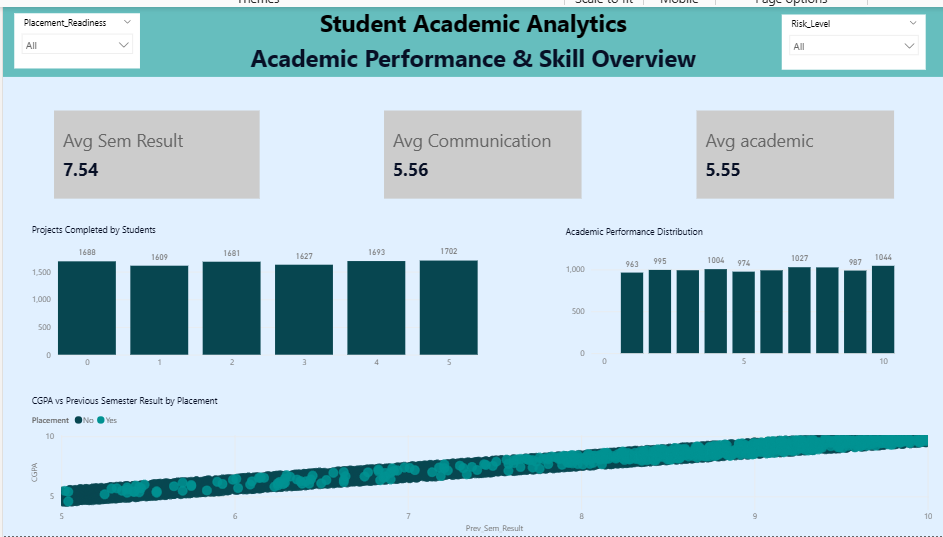

This screenshot's page, from the dashboard's own definition file:
{"tool":"powerbi","page":{"name":"Academic Analytics","canvas":[1280,720],"ordinal":1},"visuals":[{"type":"textbox","title":"Student Academic Analytics","box":[0,0,1280.3,96.1],"z":0},{"type":"cardVisual","fields":{"Data":["Avg(cleaned_student_data.Prev_Sem_Result)"]},"box":[64.5,135.8,290.9,130.4],"z":1000},{"type":"cardVisual","fields":{"Data":["Avg(cleaned_student_data.Academic_Performance)"]},"box":[940,135.8,279.9,130.4],"z":2000},{"type":"cardVisual","fields":{"Data":["Avg(cleaned_student_data.Communication_Skills)"]},"box":[513.2,135.8,279.9,130.4],"z":3000},{"type":"scatterChart","title":"CGPA vs Previous Semester Result by Placement","fields":{"X":["cleaned_student_data.Prev_Sem_Result"],"Y":["cleaned_student_data.CGPA"],"Series":["cleaned_student_data.Placement"]},"box":[34.3,526.9,1236.4,193.5],"z":4000},{"type":"clusteredColumnChart","title":"Academic Performance Distribution","fields":{"Category":["cleaned_student_data.Academic_Performance"],"Y":["CountNonNull(cleaned_student_data.College_ID)"]},"box":[760.2,297.8,459.7,201.7],"z":5000},{"type":"clusteredColumnChart","title":"Projects Completed by Students","fields":{"Y":["CountNonNull(cleaned_student_data.College_ID)"],"Category":["cleaned_student_data.Projects_Completed"]},"box":[34.3,295,617.5,207.2],"z":6000},{"type":"slicer","fields":{"Values":["cleaned_student_data.Risk_Level"]},"box":[1060.7,11,196.2,75.5],"z":7000},{"type":"slicer","fields":{"Values":["cleaned_student_data.Placement_Readiness"]},"box":[15.1,8.2,171.5,75.5],"z":8000}]}

Visuals, with their boxes on the page's 1280x720 design canvas (x1, y1, x2, y2). These are canvas units, not pixel positions in the 943x537 screenshot, which may show the page scaled, cropped or inside an application window:
"Student Academic Analytics" textbox: x1=0, y1=0, x2=1280, y2=96
cardVisual - Avg(cleaned_student_data.Prev_Sem_Result): x1=64, y1=136, x2=355, y2=266
cardVisual - Avg(cleaned_student_data.Academic_Performance): x1=940, y1=136, x2=1220, y2=266
cardVisual - Avg(cleaned_student_data.Communication_Skills): x1=513, y1=136, x2=793, y2=266
"CGPA vs Previous Semester Result by Placement" scatterChart: x1=34, y1=527, x2=1271, y2=720
"Academic Performance Distribution" clusteredColumnChart: x1=760, y1=298, x2=1220, y2=500
"Projects Completed by Students" clusteredColumnChart: x1=34, y1=295, x2=652, y2=502
slicer - cleaned_student_data.Risk_Level: x1=1061, y1=11, x2=1257, y2=86
slicer - cleaned_student_data.Placement_Readiness: x1=15, y1=8, x2=187, y2=84
